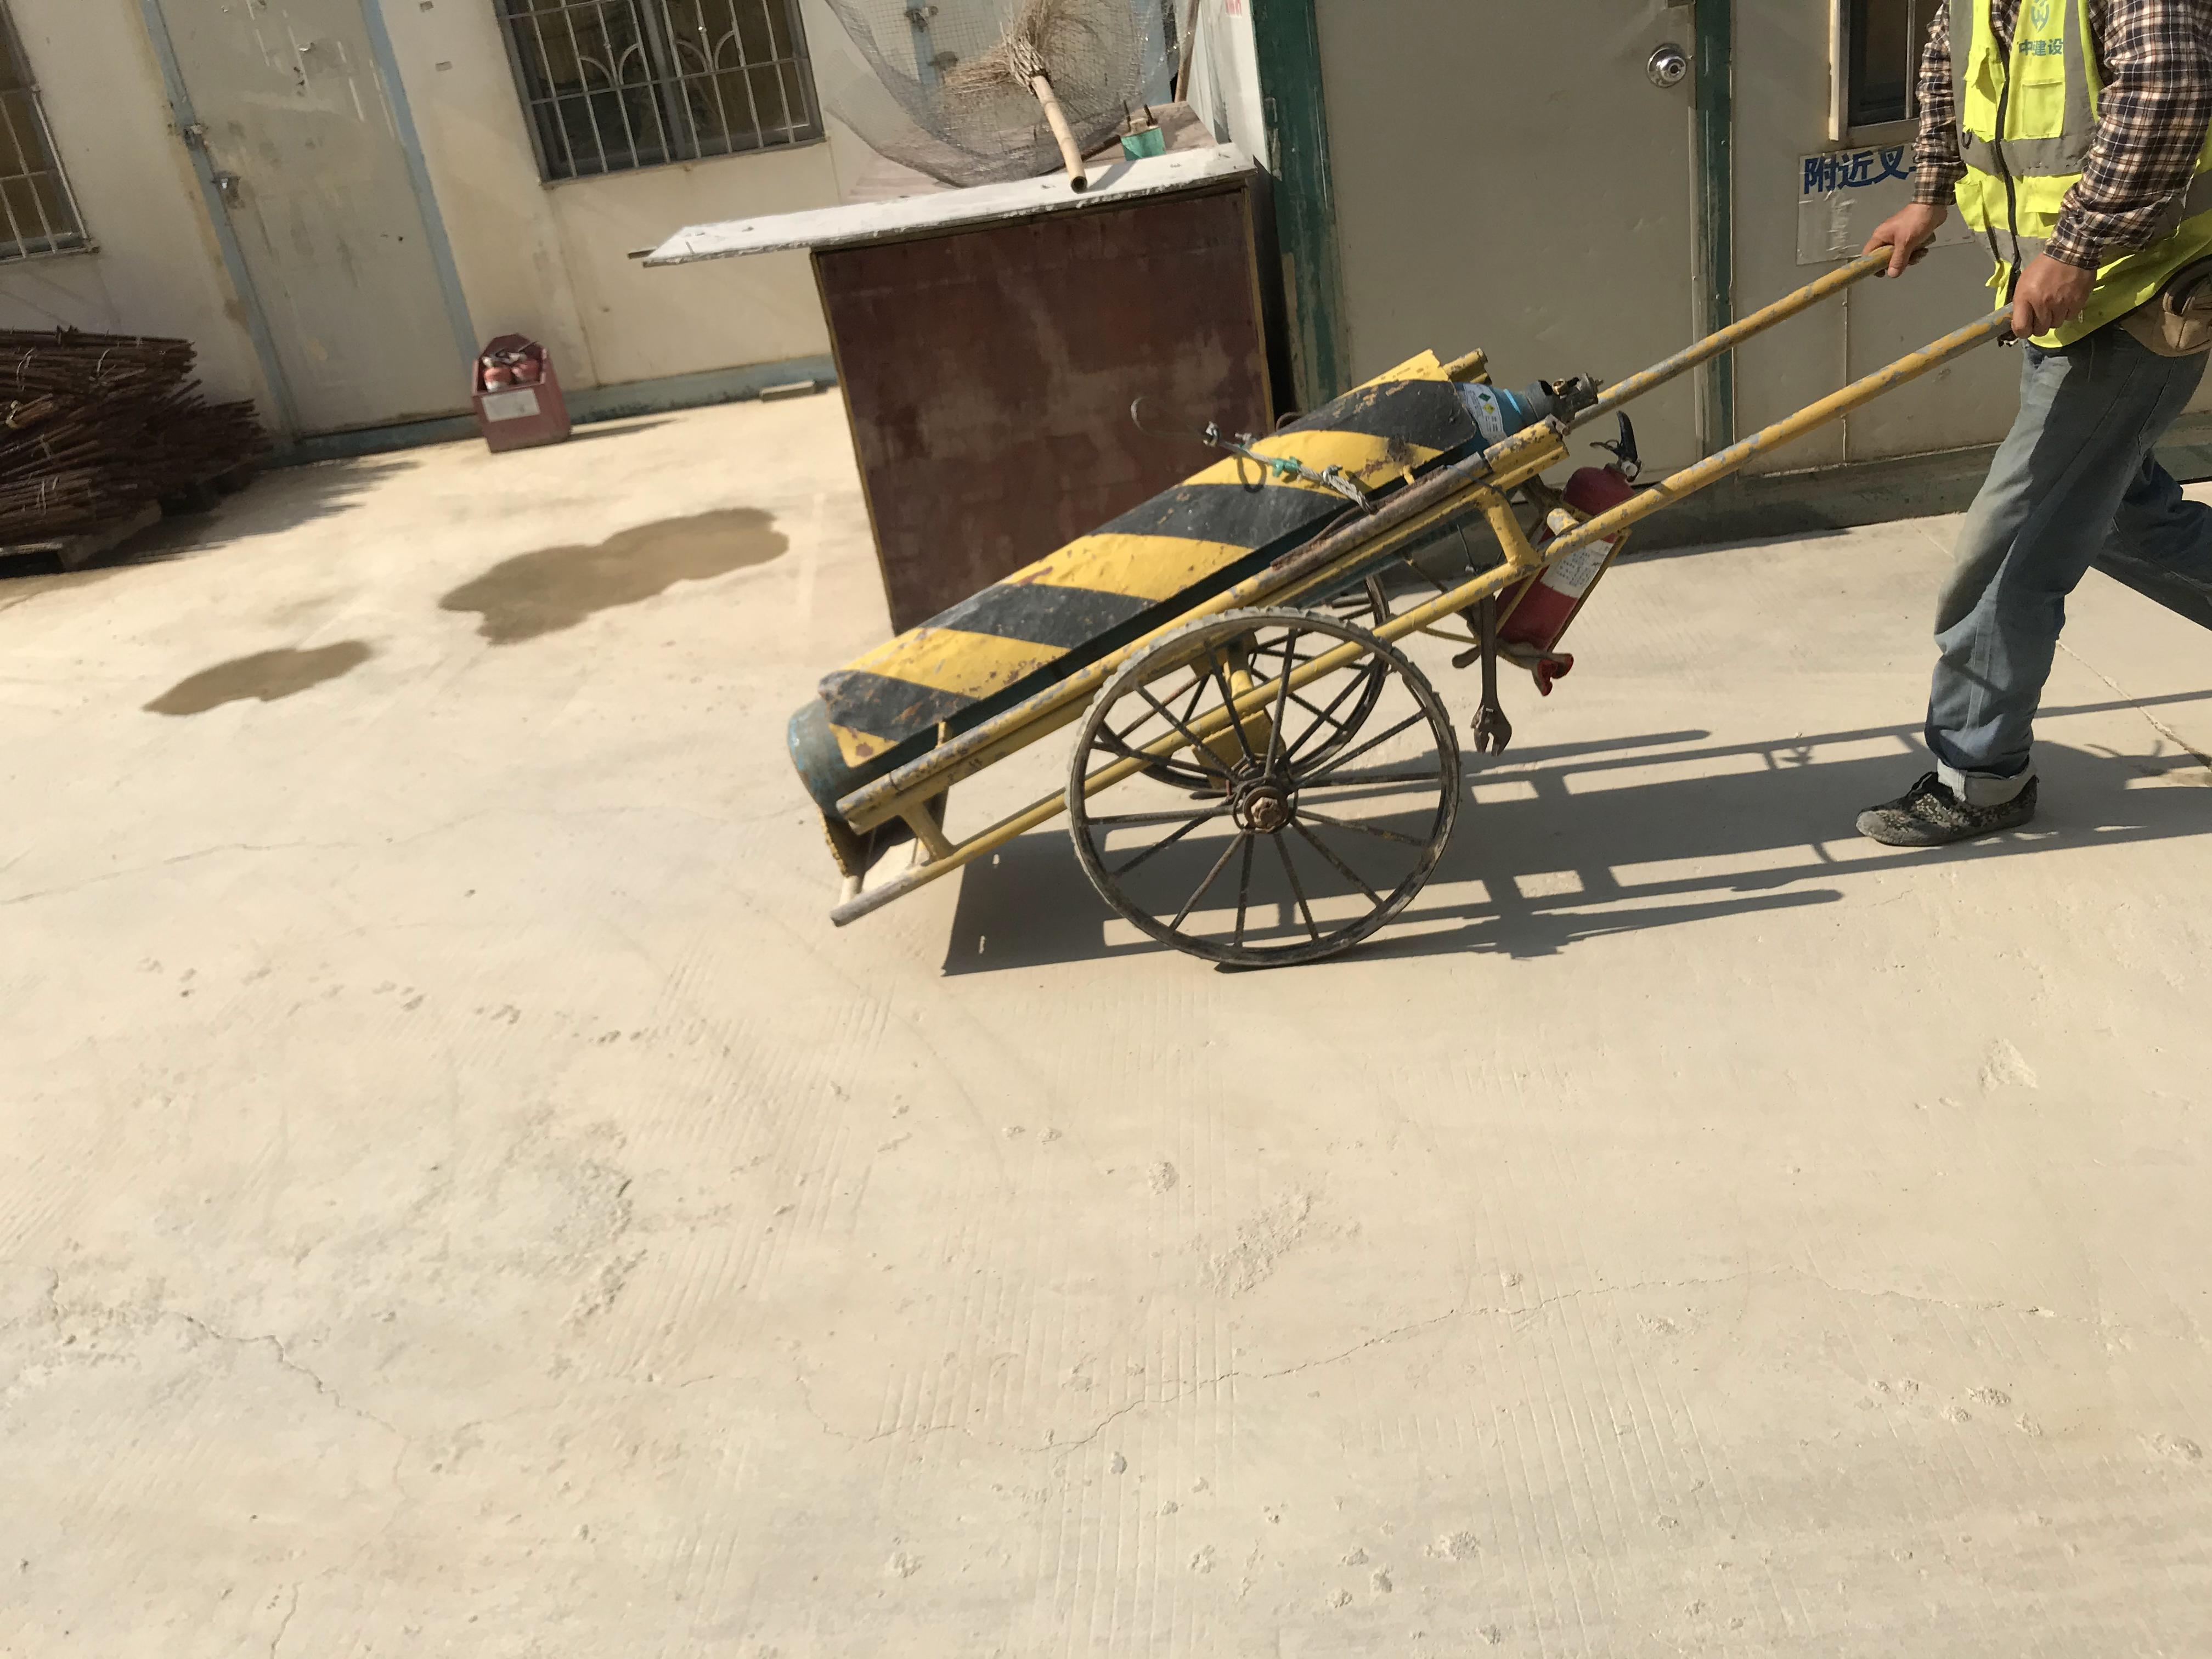handcart: (776, 245, 2042, 995)
person: (1861, 1, 2212, 839)
vest: (1964, 1, 2204, 342)
